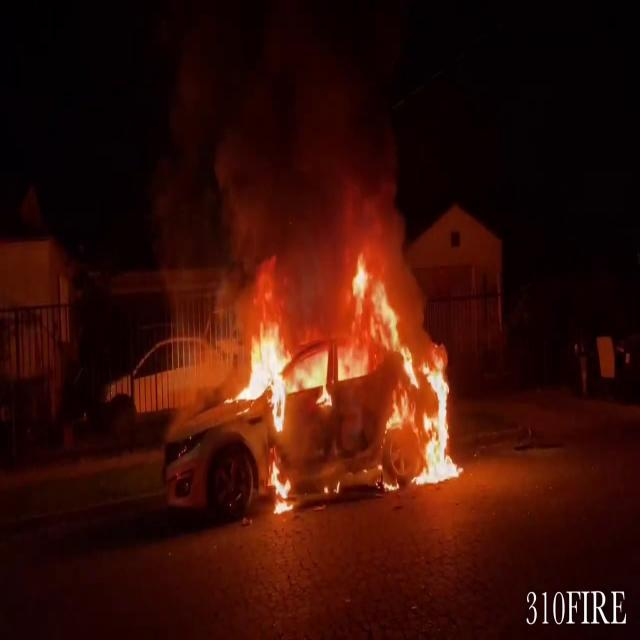Fire: (227, 240, 463, 494), (228, 308, 303, 504)
Smoke: (145, 1, 417, 302)
